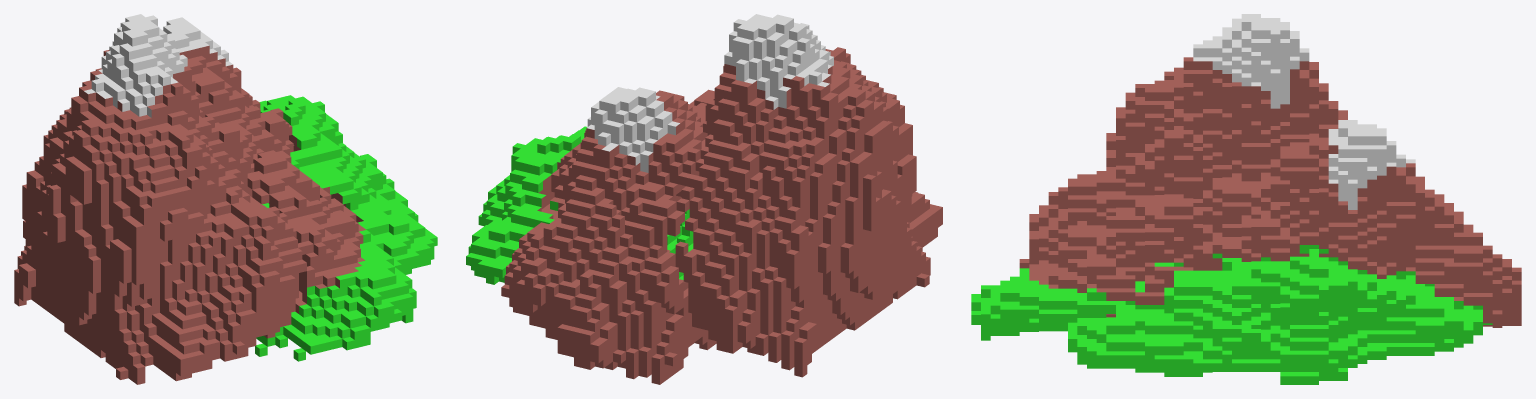
Rendered from Mountain by Poly by Google - 7Jhw3p6TusU.glb.
The picture shows the model from 3 angles, left to right: view 1: azimuth 30°, elevation 25°; view 2: azimuth 150°, elevation 25°; view 3: azimuth 270°, elevation 25°; orthographic projection. The views are drawn at different scales.
Visible parts, largest first — view 1: Sphere005_Voxelized; view 2: Sphere005_Voxelized; view 3: Sphere005_Voxelized.
Boxes of the visible parts, x1=… form: Sphere005_Voxelized: x1=14, y1=14, x2=437, y2=384; Sphere005_Voxelized: x1=466, y1=14, x2=942, y2=384; Sphere005_Voxelized: x1=971, y1=14, x2=1521, y2=384.
Bounding box in the file's own units: 165159 × 134431 × 218931.
